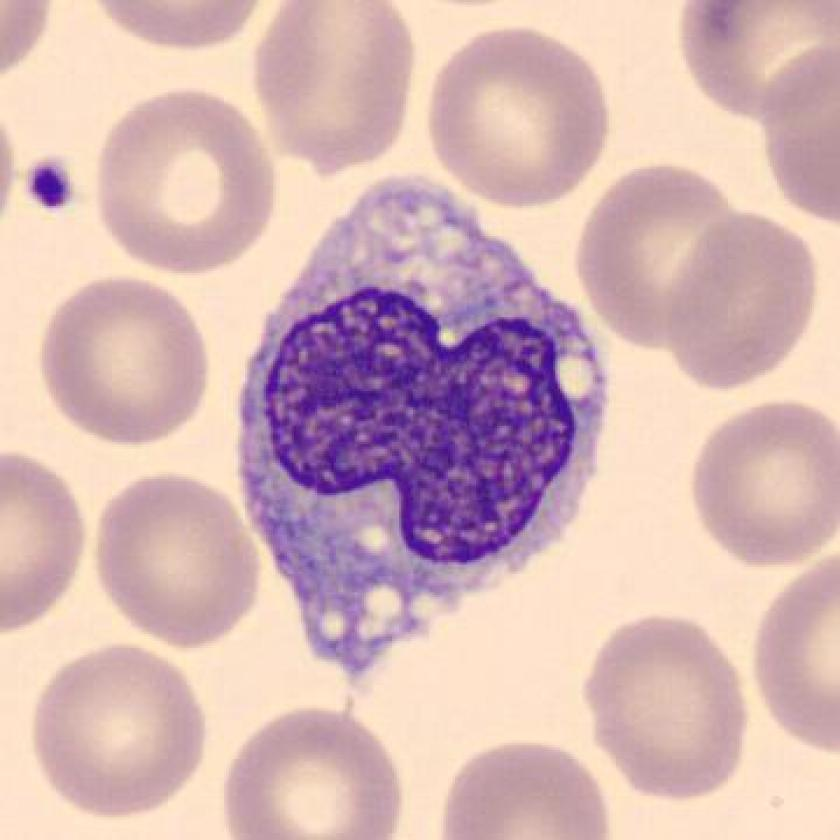monocyte: (218, 147, 636, 695)
